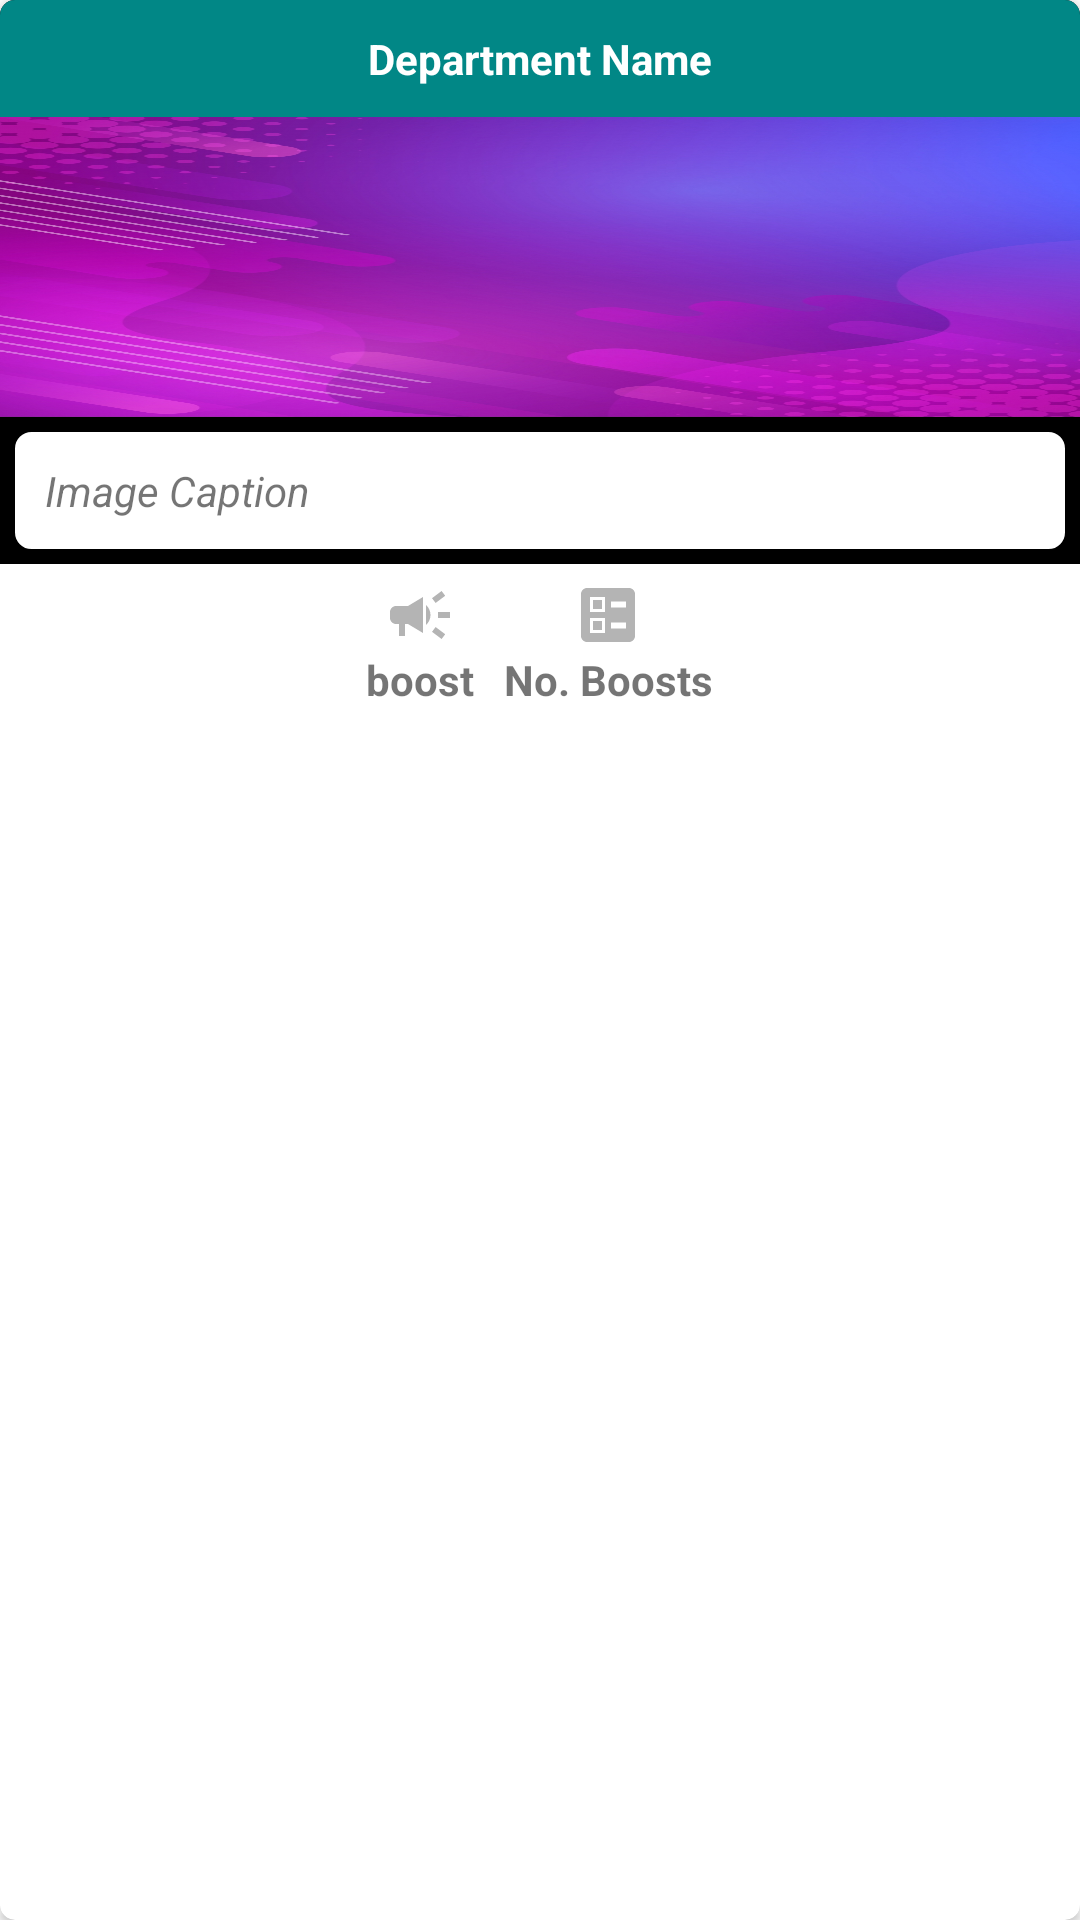

Screen size 1080px×1920px. Icon name, then its box in pixels as (x1=x1, y1=y1, x2=x2, y2=y2):
ballot: (x1=581, y1=588, x2=635, y2=642)
campaign: (x1=390, y1=591, x2=450, y2=639)
